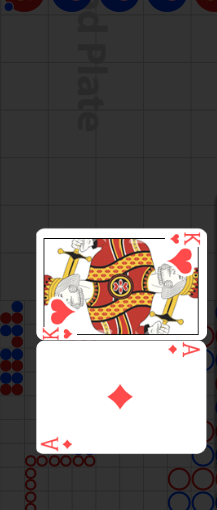AD: (165, 342, 200, 359)
KH: (169, 231, 202, 246)
